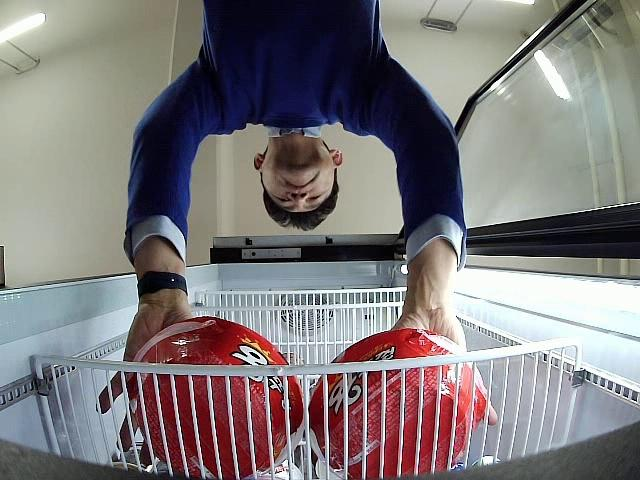00_hand: (95, 295, 193, 466), (391, 280, 498, 426)
10_wangTtukkeong: (128, 316, 304, 480), (310, 329, 487, 479)
